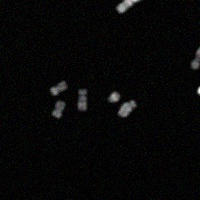chromosome: (117, 0, 154, 13), (117, 99, 136, 118), (49, 79, 68, 96), (190, 45, 200, 72), (50, 101, 65, 118), (77, 88, 87, 111), (107, 91, 119, 102), (198, 84, 200, 102)
